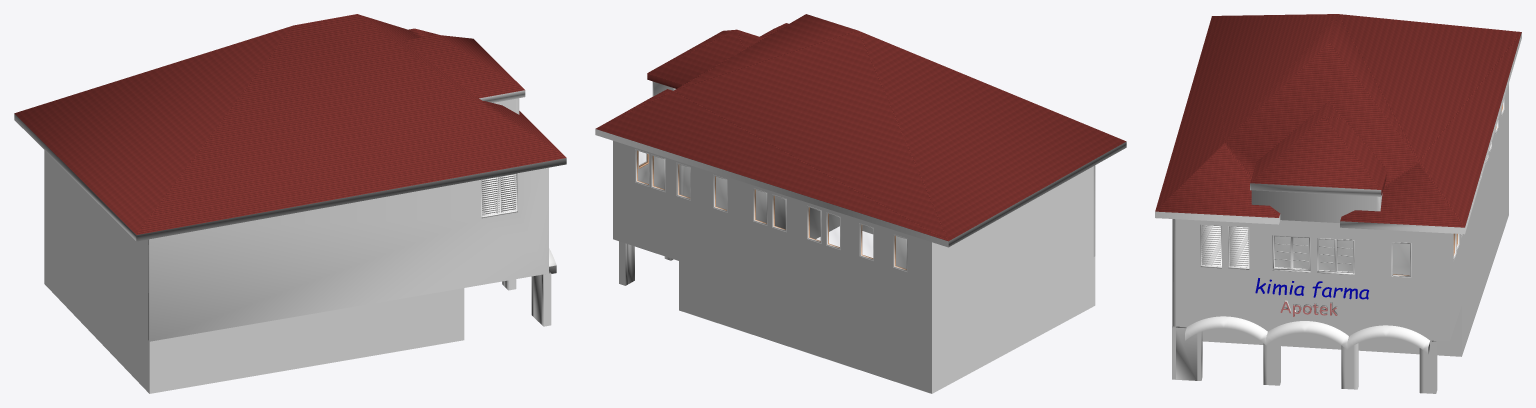
The model's file is kimiafarma.glb.
3 views of the same model, side by side, from view 1: azimuth 30°, elevation 25°; view 2: azimuth 150°, elevation 25°; view 3: azimuth 270°, elevation 25° (orthographic). The views are drawn at different scales.
Parts seen in each view (by area): view 1: Mesh17 Generic_Roof___300mm1 Group1 Model, Mesh51 Generic___200mm21_1 Group1 Model, Mesh4 Generic___200mm1 Group1 Model, Mesh52 Generic___200mm22_1 Group1 Model, Mesh5 Generic___200mm3_1 Group1 Model, Mesh33 Generic_Roof___300mm30_1 Group1 Model, Mesh9 Generic___200mm23_1 Group1 Model, Mesh56 Generic___200mm17_1 Group1 Model; view 2: Mesh17 Generic_Roof___300mm1 Group1 Model, Mesh18 Generic___200mm20_1 Group1 Model, Mesh52 Generic___200mm22_1 Group1 Model, Mesh26 Generic___200mm2_1 Group1 Model, Mesh5 Generic___200mm3_1 Group1 Model, Mesh33 Generic_Roof___300mm30_1 Group1 Model, Mesh62 Generic___200mm38_1 Group1 Model, Mesh9 Generic___200mm23_1 Group1 Model; view 3: Mesh17 Generic_Roof___300mm1 Group1 Model, Mesh9 Generic___200mm23_1 Group1 Model, Mesh33 Generic_Roof___300mm30_1 Group1 Model, Mesh62 Generic___200mm38_1 Group1 Model, Mesh18 Generic___200mm20_1 Group1 Model, Mesh16 Generic___200mm27_1 Group1 Model, Mesh26 Generic___200mm2_1 Group1 Model, Mesh153 Generic_Roof___300mm41_1 Group1 Model, Mesh98 Generic_Roof___300mm39_1 Group1 Model, Mesh130 Generic_Roof___300mm40_1 Group1 Model, Mesh27 Generic___200mm16_1 Group1 Model, Mesh51 Generic___200mm21_1 Group1 Model (+5 smaller).
Part boxes in pixels (<box>): Mesh17 Generic_Roof___300mm1 Group1 Model: <box>14,14,566,241</box>; Mesh51 Generic___200mm21_1 Group1 Model: <box>148,167,548,341</box>; Mesh4 Generic___200mm1 Group1 Model: <box>148,288,464,393</box>; Mesh52 Generic___200mm22_1 Group1 Model: <box>46,152,147,339</box>; Mesh5 Generic___200mm3_1 Group1 Model: <box>46,234,147,391</box>; Mesh33 Generic_Roof___300mm30_1 Group1 Model: <box>402,34,525,102</box>; Mesh9 Generic___200mm23_1 Group1 Model: <box>482,173,515,213</box>; Mesh56 Generic___200mm17_1 Group1 Model: <box>541,271,551,326</box>; Mesh17 Generic_Roof___300mm1 Group1 Model: <box>595,14,1126,247</box>; Mesh18 Generic___200mm20_1 Group1 Model: <box>613,141,934,344</box>; Mesh52 Generic___200mm22_1 Group1 Model: <box>934,166,1092,342</box>; Mesh26 Generic___200mm2_1 Group1 Model: <box>679,261,934,393</box>; Mesh5 Generic___200mm3_1 Group1 Model: <box>934,257,1092,391</box>; Mesh33 Generic_Roof___300mm30_1 Group1 Model: <box>647,29,763,88</box>; Mesh62 Generic___200mm38_1 Group1 Model: <box>681,165,839,239</box>; Mesh9 Generic___200mm23_1 Group1 Model: <box>638,151,681,194</box>; Mesh17 Generic_Roof___300mm1 Group1 Model: <box>1155,14,1521,234</box>; Mesh9 Generic___200mm23_1 Group1 Model: <box>1176,219,1445,341</box>; Mesh33 Generic_Roof___300mm30_1 Group1 Model: <box>1250,101,1387,196</box>; Mesh62 Generic___200mm38_1 Group1 Model: <box>1202,226,1457,356</box>; Mesh18 Generic___200mm20_1 Group1 Model: <box>1445,83,1508,341</box>; Mesh16 Generic___200mm27_1 Group1 Model: <box>1251,190,1376,222</box>; Mesh26 Generic___200mm2_1 Group1 Model: <box>1457,164,1508,356</box>; Mesh153 Generic_Roof___300mm41_1 Group1 Model: <box>1347,325,1429,354</box>; Mesh98 Generic_Roof___300mm39_1 Group1 Model: <box>1185,316,1267,344</box>; Mesh130 Generic_Roof___300mm40_1 Group1 Model: <box>1266,321,1348,349</box>; Mesh27 Generic___200mm16_1 Group1 Model: <box>1176,326,1197,380</box>; Mesh51 Generic___200mm21_1 Group1 Model: <box>1172,219,1176,326</box>.
Size of the model in its own units: 23.52 by 14.55 by 17.22.
Materials: 9 (2 with a texture image).
